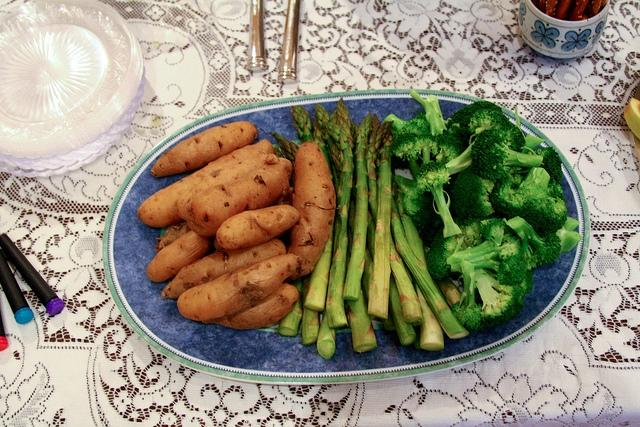asparagus: (390, 184, 470, 338), (366, 121, 424, 327), (366, 211, 416, 346), (325, 121, 354, 330), (342, 111, 372, 302), (304, 122, 334, 312), (368, 128, 394, 320), (361, 242, 396, 331), (347, 286, 377, 353), (416, 283, 444, 351), (278, 276, 303, 336), (302, 270, 320, 346), (317, 308, 337, 359), (366, 113, 381, 147), (412, 325, 422, 350)
broccoli: (447, 219, 534, 293), (486, 167, 568, 237), (444, 107, 526, 176), (471, 126, 544, 184), (394, 175, 444, 246), (416, 162, 462, 239), (502, 216, 562, 270), (474, 268, 526, 328), (451, 260, 485, 334), (452, 169, 496, 221), (411, 90, 452, 136), (384, 113, 430, 141), (535, 148, 563, 188), (436, 128, 466, 164), (452, 217, 483, 248), (431, 226, 464, 252), (556, 225, 583, 254)
